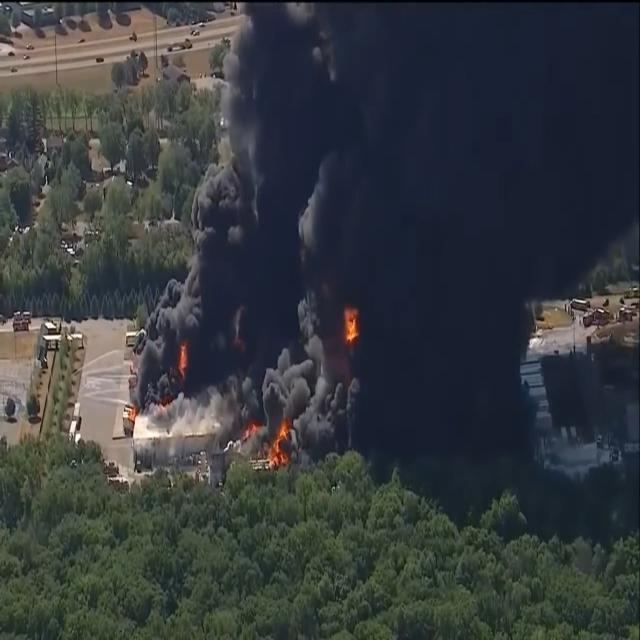Fire: (269, 423, 297, 467), (342, 304, 360, 344), (246, 419, 266, 443), (178, 340, 188, 378), (128, 408, 138, 424)
Smoke: (251, 0, 564, 460), (132, 0, 323, 404)
